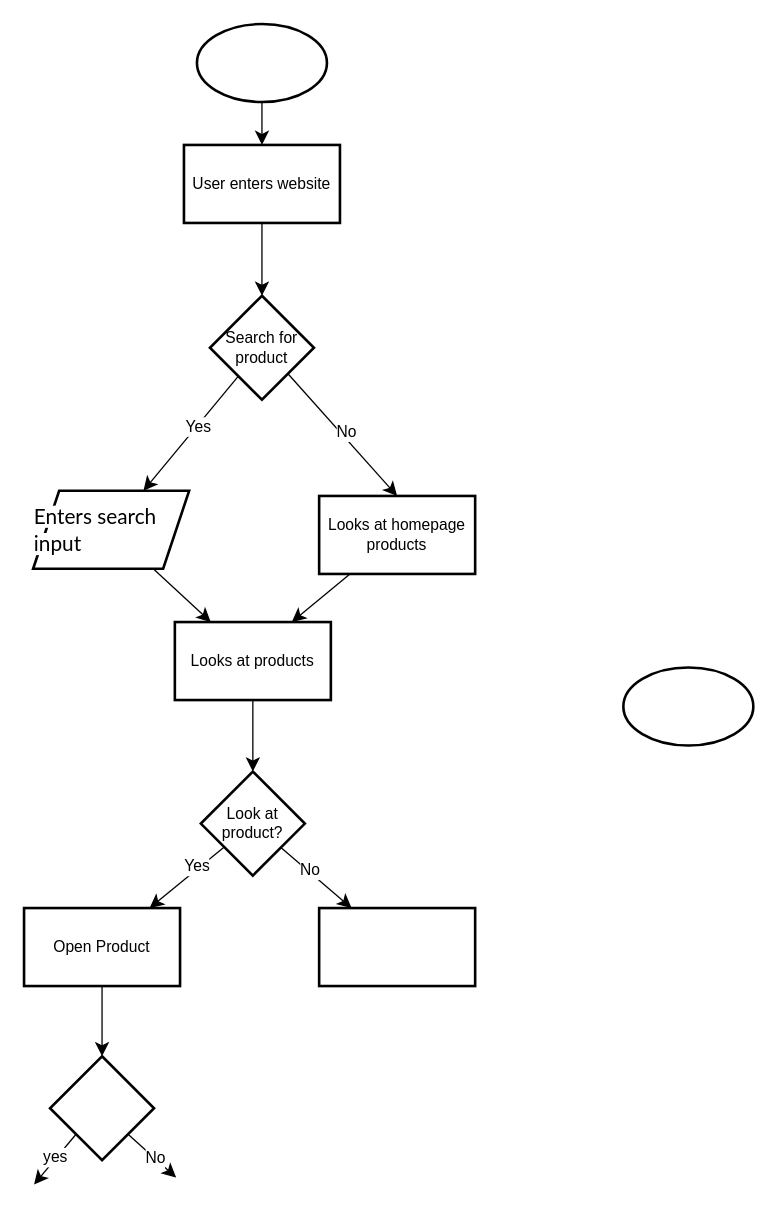
This 776x1206 diagram has some shape labels left out. The shapes that lost their labels are listed below. From the top down, each one's centre as x and y in pixels, then its label:
[261,62]: Start
[687,706]: End
[396,946]: Continue Shopping
[101,1107]: Add to cart
